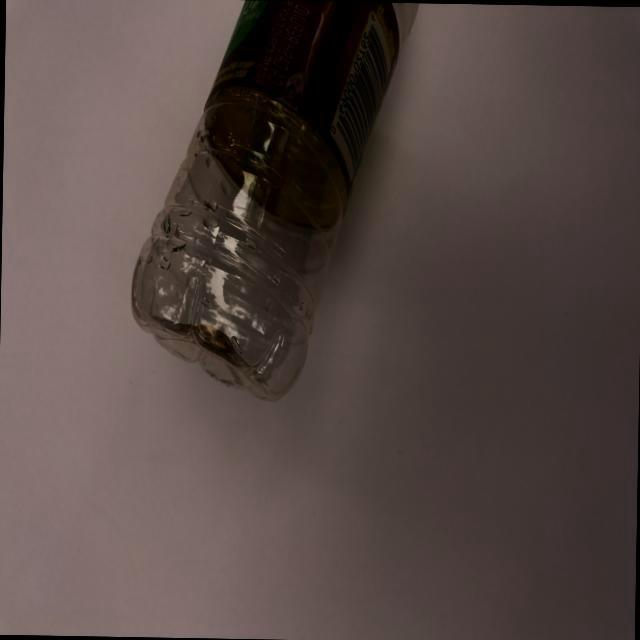plastic: (107, 0, 430, 415)
